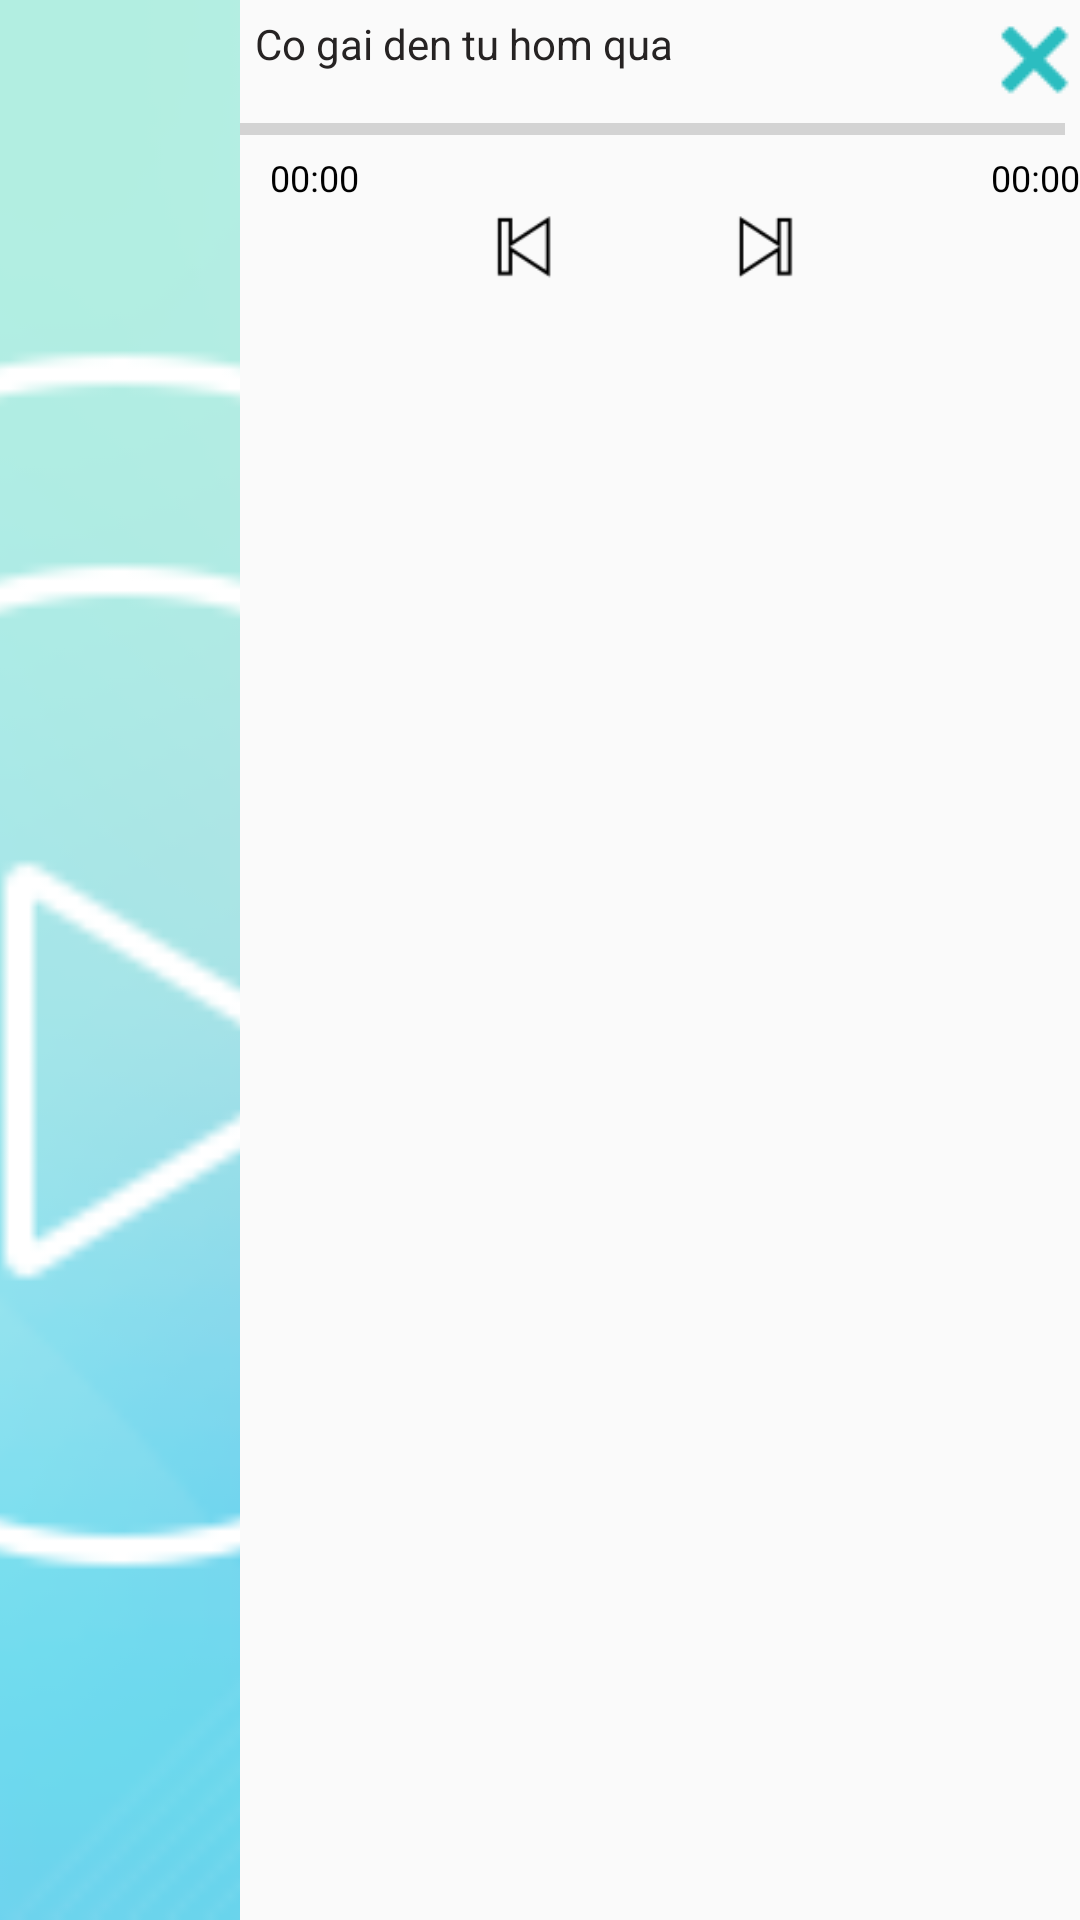

Screen size 1080 × 1920. Icon name, then its box in pixels as (x1, y1, x2, y2):
exit remote view: (1001, 26, 1069, 94)
next: (739, 216, 793, 277)
previous: (497, 216, 551, 278)
